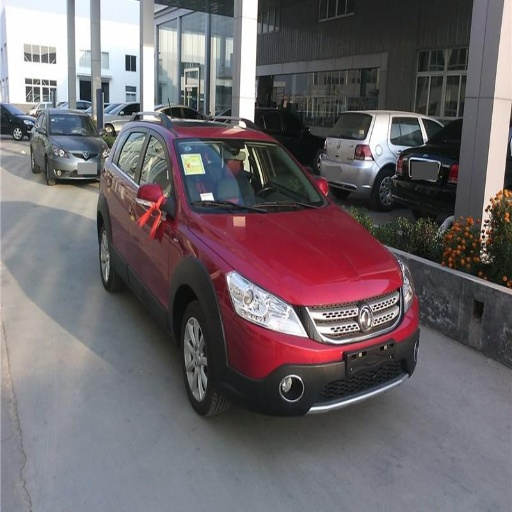front_bumper: (221, 305, 415, 415)
front_right_door: (131, 127, 175, 310)
front_right_light: (227, 272, 307, 335)
